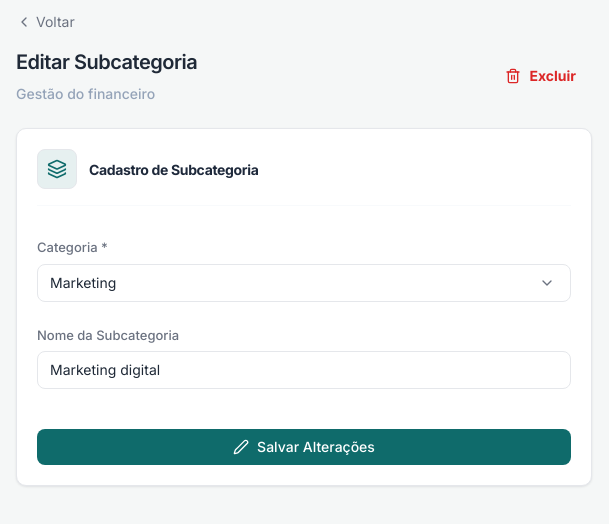
Test: <FinancialSubcategoryEdit> › recusa salvar sem nome
This screenshot has width=609, height=524.
Clear the field showing "Marketing digital" at (304, 370), box [37,351,571,389]
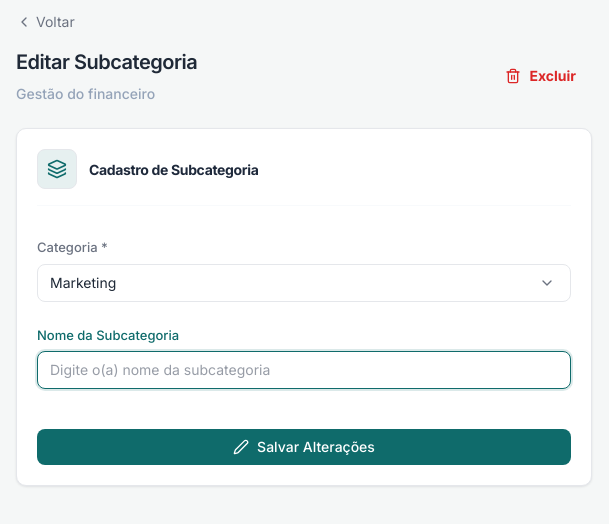
Click the button "Salvar Alterações".
click(304, 447)  # box [37,429,571,465]
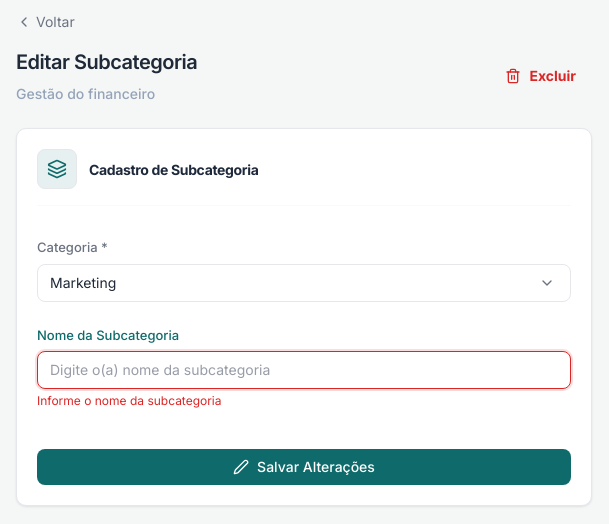
Expected: the text "Informe o nome da subcategoria" is shown, [37,393,222,408]
